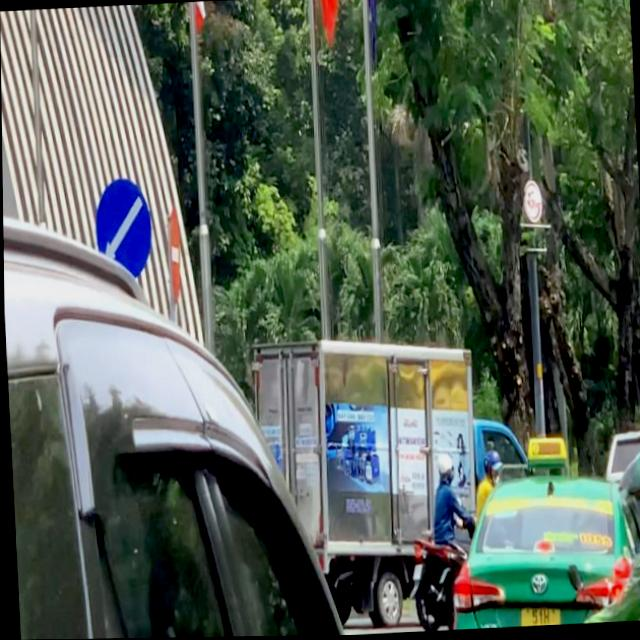Vong chuong ngai vat sang trai: (93, 177, 153, 284)
